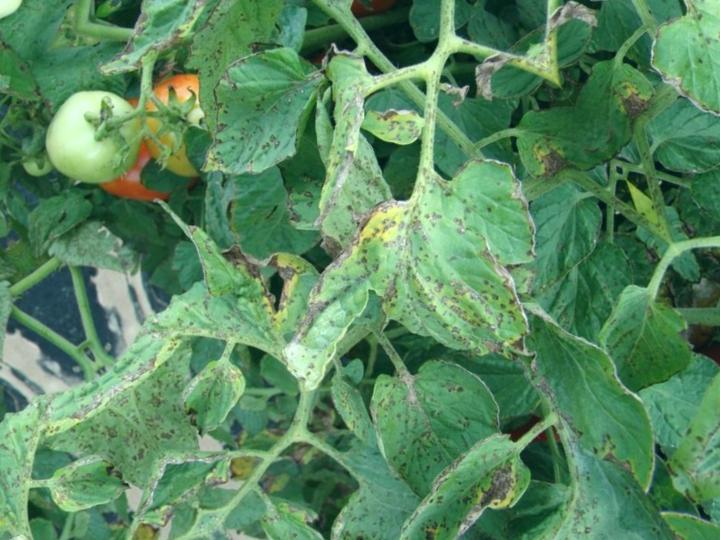Tomato leaf bacterial spot: (230, 99, 599, 450), (486, 280, 689, 517), (84, 229, 306, 431), (331, 314, 538, 527), (155, 17, 369, 215), (362, 407, 554, 540), (157, 344, 260, 444)
